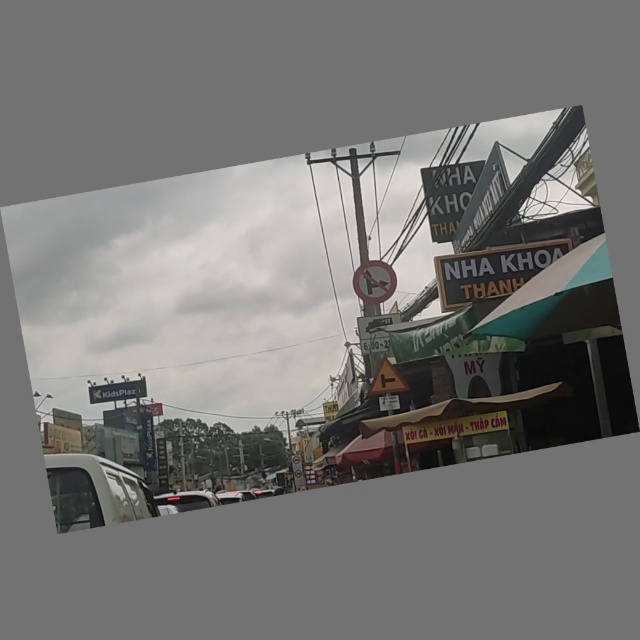P.139: (350, 258, 399, 305)
S.505a*Xe tai: (357, 312, 402, 353)
W.205b: (362, 356, 409, 398)
